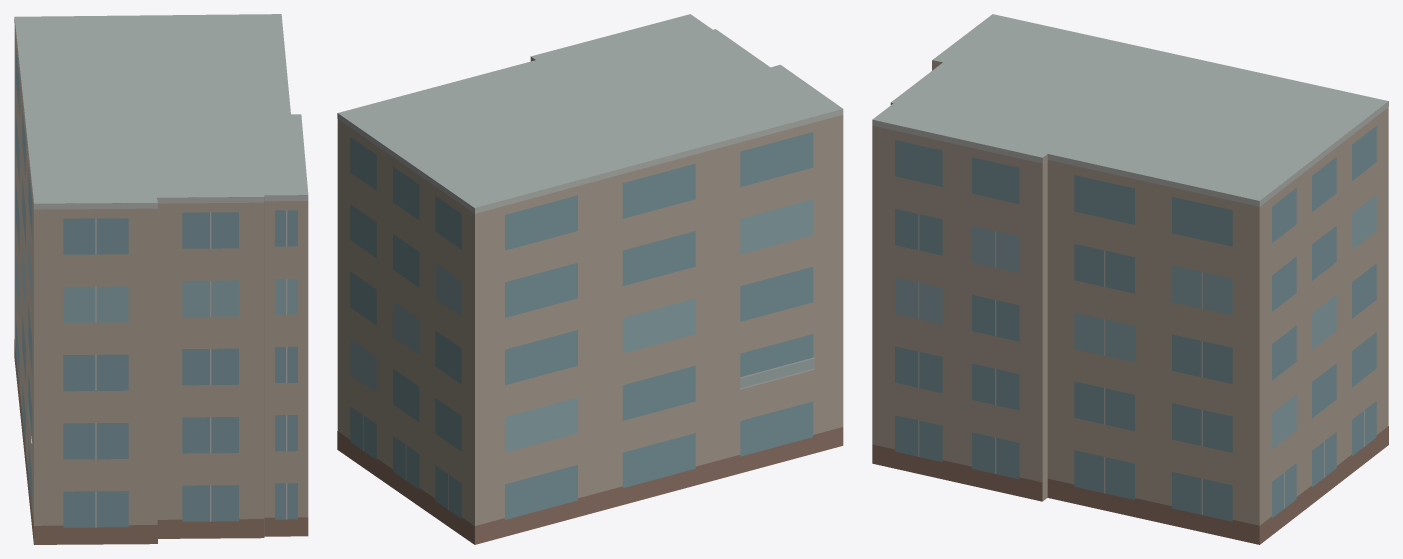
Rendered from survey-upis-32669800.glb.
3 renders of one model, left to right at view 1: azimuth 30°, elevation 25°; view 2: azimuth 150°, elevation 25°; view 3: azimuth 270°, elevation 25°, orthographic. The views are drawn at different scales.
Parts seen in each view (by area): view 1: survey-upis-32669800.tmp; view 2: survey-upis-32669800.tmp; view 3: survey-upis-32669800.tmp.
Part boxes in pixels (x1,y1,x2,y2): survey-upis-32669800.tmp: [14, 14, 308, 544]; survey-upis-32669800.tmp: [337, 14, 843, 544]; survey-upis-32669800.tmp: [872, 14, 1388, 544].
Size of the model in its own units: 16.56 by 14.2 by 19.33.
